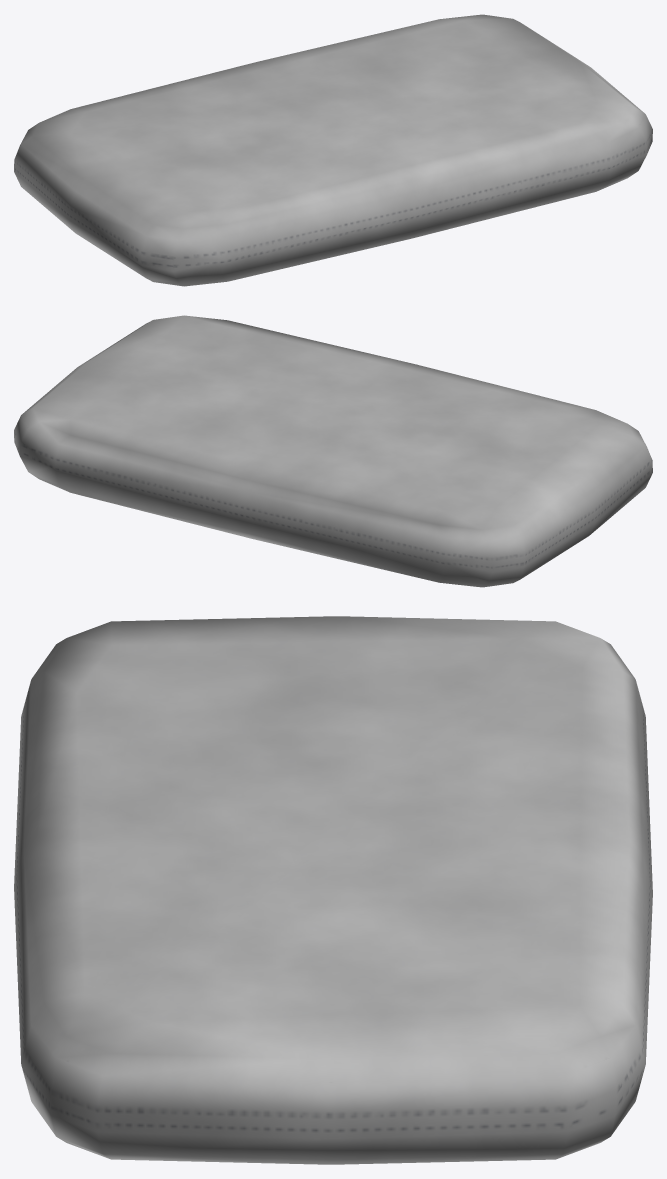
File: LowerTorso_C1.fbx
The picture shows the model from 3 angles, top to bottom: view 1: azimuth 30°, elevation 25°; view 2: azimuth 150°, elevation 25°; view 3: azimuth 270°, elevation 25°; orthographic projection. The views are drawn at different scales.
Visible parts, largest first — view 1: Civ_UniformeEnfermeria_LowerTorso_C1; view 2: Civ_UniformeEnfermeria_LowerTorso_C1; view 3: Civ_UniformeEnfermeria_LowerTorso_C1.
Boxes of the visible parts, box(x1,y1,x2,y2) form: Civ_UniformeEnfermeria_LowerTorso_C1: box(14, 14, 652, 286); Civ_UniformeEnfermeria_LowerTorso_C1: box(14, 315, 652, 587); Civ_UniformeEnfermeria_LowerTorso_C1: box(14, 616, 652, 1164).
Size of the model in its own units: 2.25 by 0.2805 by 1.29.
